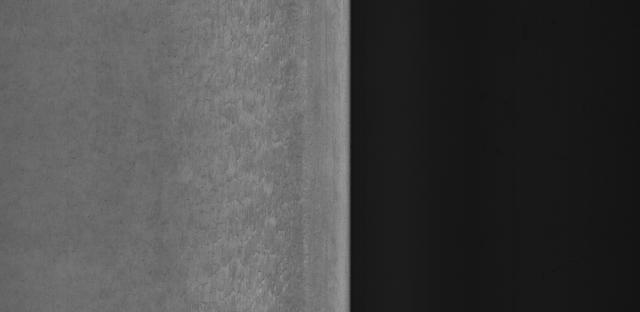silk_spot: (181, 26, 302, 298)
